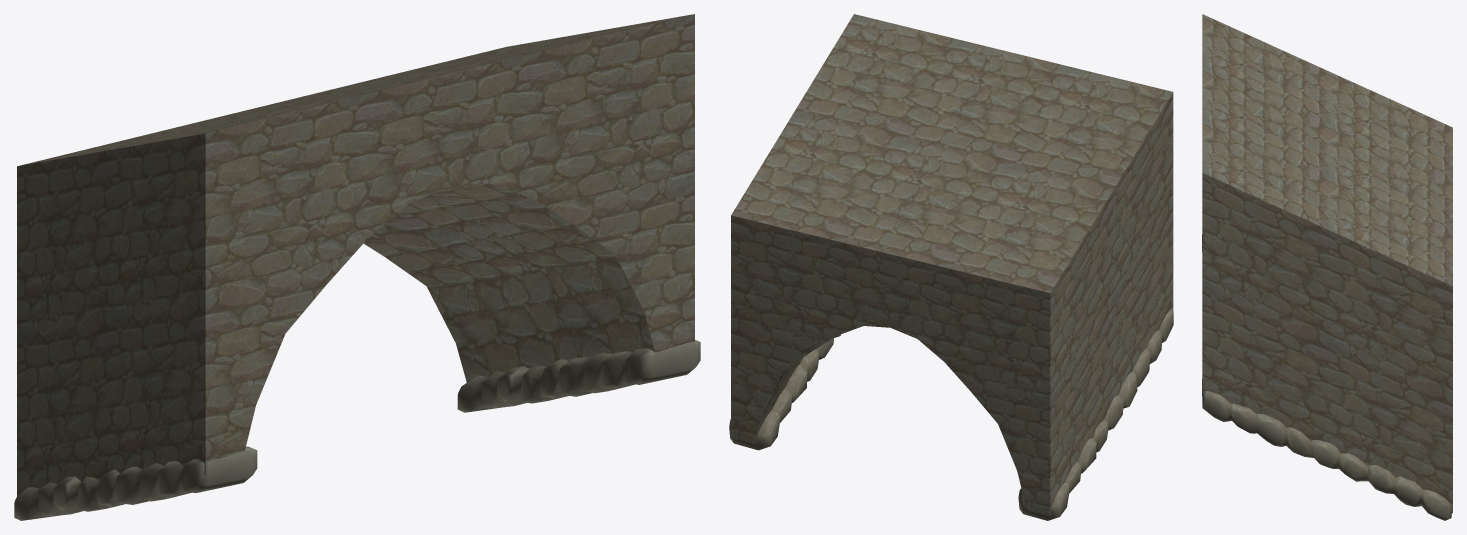
Rendered from SM_FW01_Ruins_Int_Ceiling_B_6x4_Ramp_01.fbx.
3 renders of one model, left to right at view 1: azimuth 30°, elevation 25°; view 2: azimuth 150°, elevation 25°; view 3: azimuth 270°, elevation 25°, orthographic. The views are drawn at different scales.
Parts seen in each view (by area): view 1: SM_FW01_Ruins_Int_Ceiling_B_6x4_Ramp_01, SM_FW01_Ruins_Int_Ceiling_B_6x4_Ramp_01_LOD0; view 2: SM_FW01_Ruins_Int_Ceiling_B_6x4_Ramp_01, SM_FW01_Ruins_Int_Ceiling_B_6x4_Ramp_01_LOD0; view 3: SM_FW01_Ruins_Int_Ceiling_B_6x4_Ramp_01, SM_FW01_Ruins_Int_Ceiling_B_6x4_Ramp_01_LOD0.
Boxes of the visible parts, x1,y1,x2,y2 form: SM_FW01_Ruins_Int_Ceiling_B_6x4_Ramp_01: (17, 14, 694, 495); SM_FW01_Ruins_Int_Ceiling_B_6x4_Ramp_01_LOD0: (14, 340, 700, 520); SM_FW01_Ruins_Int_Ceiling_B_6x4_Ramp_01: (731, 14, 1173, 515); SM_FW01_Ruins_Int_Ceiling_B_6x4_Ramp_01_LOD0: (729, 308, 1173, 520); SM_FW01_Ruins_Int_Ceiling_B_6x4_Ramp_01: (1202, 14, 1452, 513); SM_FW01_Ruins_Int_Ceiling_B_6x4_Ramp_01_LOD0: (1202, 234, 1451, 520).
Size of what is drawn, in the model's own units: 6.3 by 6.14 by 4.01.
